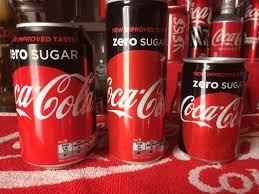can: (11, 19, 102, 168), (98, 3, 172, 173), (177, 56, 259, 191)
